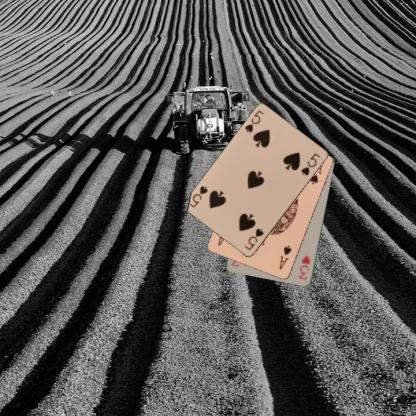3h: (296, 253, 311, 281)
5s: (242, 226, 265, 252), (242, 108, 265, 134)
As: (277, 243, 293, 271)
